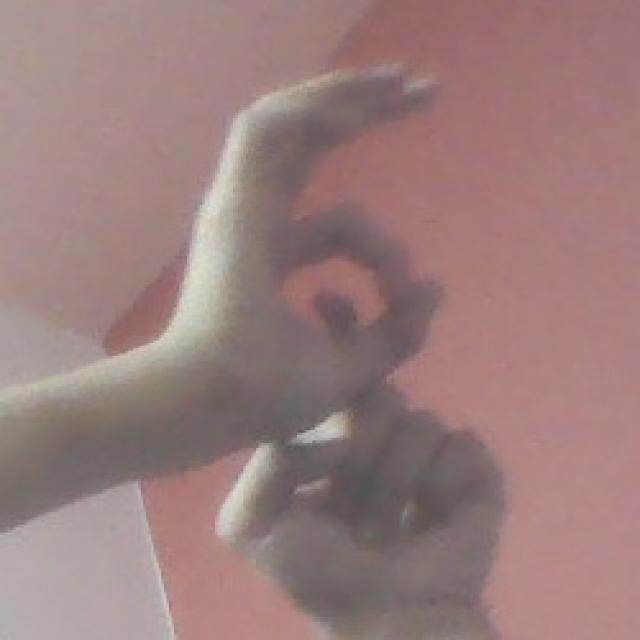Alphabet-Q: (160, 44, 503, 640)
